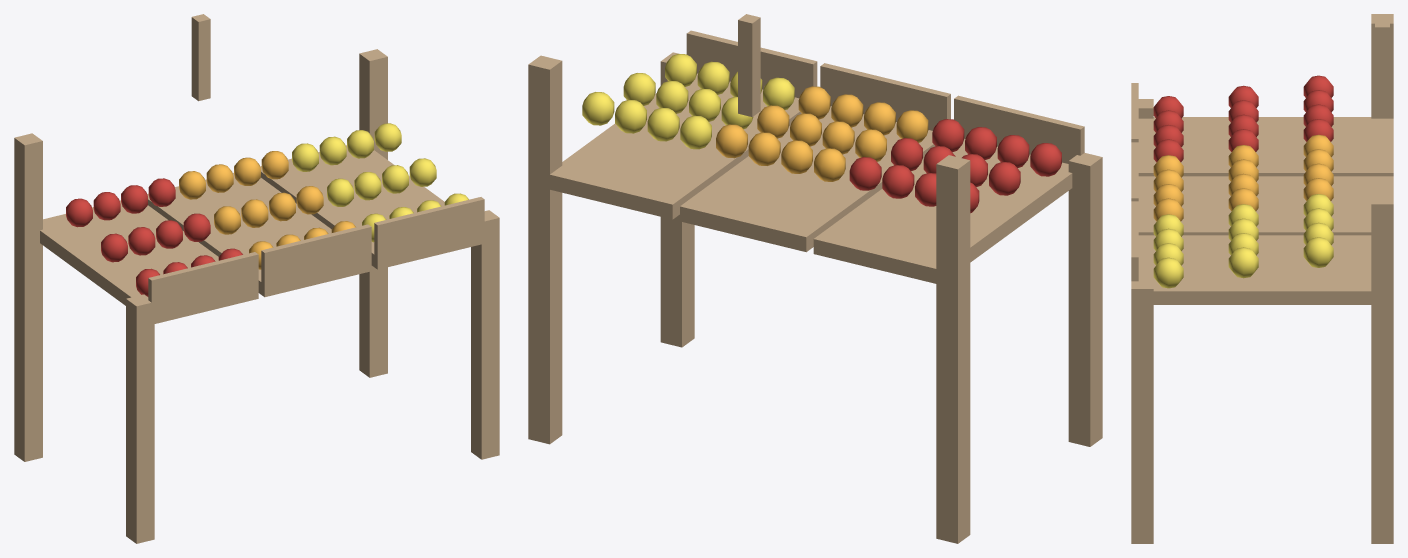
File: produce_stand.glb
3 renders of one model, left to right at view 1: azimuth 30°, elevation 25°; view 2: azimuth 150°, elevation 25°; view 3: azimuth 270°, elevation 25°, orthographic. The views are drawn at different scales.
Visible parts, largest first — view 1: tint_wood, apple, lemon, orange; view 2: tint_wood, orange, lemon, apple; view 3: tint_wood, lemon, orange, apple.
Part boxes in pixels (x1,y1,x2,y2): tint_wood: [14, 14, 499, 543]; apple: [66, 178, 242, 296]; lemon: [292, 123, 468, 242]; orange: [179, 151, 355, 269]; tint_wood: [528, 14, 1102, 543]; orange: [716, 86, 928, 181]; lemon: [582, 53, 794, 149]; apple: [849, 119, 1061, 213]; tint_wood: [1131, 14, 1393, 543]; lemon: [1153, 194, 1333, 288]; orange: [1153, 134, 1333, 221]; apple: [1153, 75, 1333, 162].
Size of the model in its own units: 1.2 by 1.25 by 0.7.
